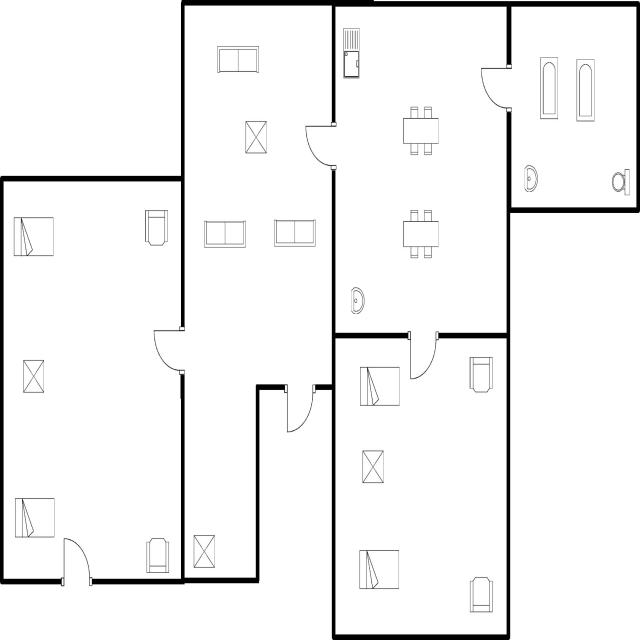armchair: (140, 203, 172, 253), (464, 571, 496, 619), (466, 352, 496, 399), (143, 533, 172, 577)
bed: (355, 360, 403, 413), (11, 212, 56, 264), (11, 493, 58, 542), (356, 546, 402, 596)
coffee_table: (241, 115, 269, 160), (358, 446, 386, 490), (21, 355, 48, 400)
dining_table: (397, 101, 443, 161), (400, 204, 442, 264)
large_sink: (608, 163, 632, 200)
large_sofa: (200, 213, 249, 253), (270, 214, 318, 253), (213, 40, 262, 78)
sink: (340, 22, 363, 85)
small_sink: (346, 280, 367, 320), (521, 160, 541, 198)
tub: (572, 53, 599, 126), (537, 52, 561, 124)
